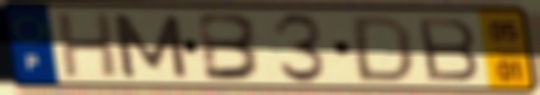3: (271, 11, 330, 85)
B: (196, 11, 266, 83), (414, 15, 483, 84)
D: (350, 13, 416, 84)
H: (55, 11, 120, 81)
M: (107, 12, 193, 81)
